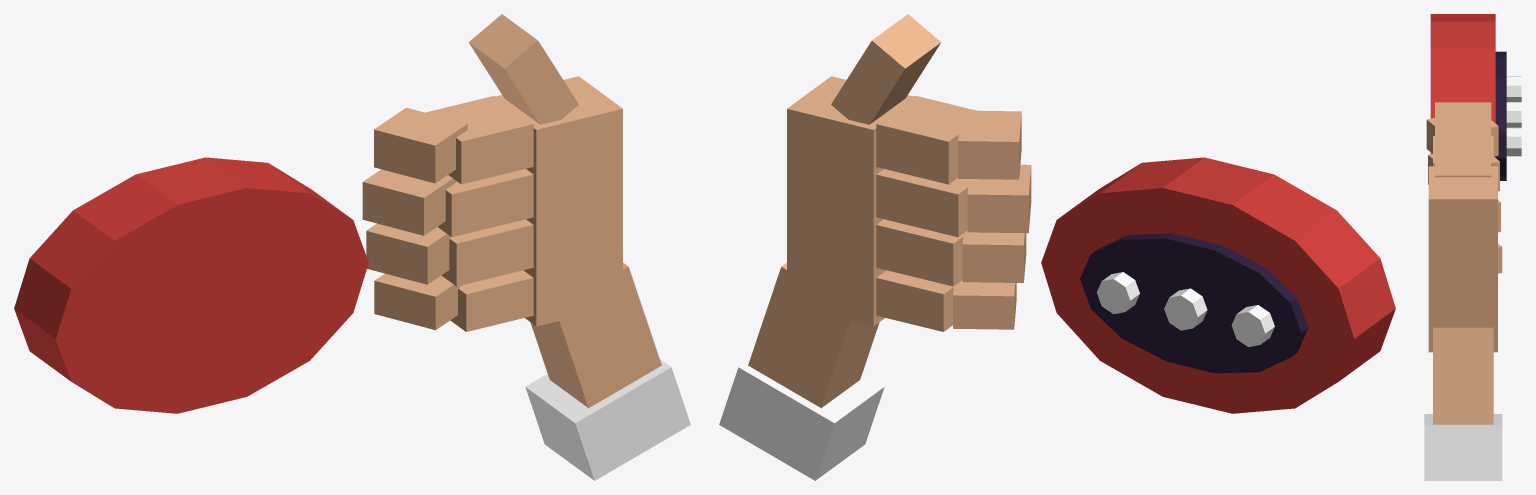
File: whisper.gltf
The picture shows the model from 3 angles, left to right: view 1: azimuth 30°, elevation 25°; view 2: azimuth 150°, elevation 25°; view 3: azimuth 270°, elevation 25°; orthographic projection. The views are drawn at different scales.
Visible parts, largest first — view 1: mouth_lips, hand_palm, cuff_sleeve, hand_wrist, hand_thumb, hand_finger_1_base, hand_finger_1_tip, hand_finger_2_base, hand_finger_2_tip, hand_finger_3_base, hand_finger_3_tip, hand_finger_4_tip (+1 smaller); view 2: mouth_lips, hand_palm, mouth_opening, cuff_sleeve, hand_wrist, hand_thumb, hand_finger_1_base, hand_finger_2_base, hand_finger_3_base, hand_finger_1_tip, mouth, hand_finger_4_base (+3 smaller); view 3: hand_palm, mouth_lips, hand_wrist, cuff_sleeve, hand_thumb, mouth_opening, mouth, hand_finger_1_tip, hand_finger_2_tip, hand_finger_1_base, hand_finger_4_tip.
Boxes of the visible parts, bbox=[...] form: mouth_lips: bbox=[14, 157, 368, 413]; hand_palm: bbox=[496, 76, 622, 326]; cuff_sleeve: bbox=[525, 359, 690, 480]; hand_wrist: bbox=[530, 263, 661, 408]; hand_thumb: bbox=[468, 14, 578, 124]; hand_finger_1_base: bbox=[426, 95, 533, 184]; hand_finger_1_tip: bbox=[374, 107, 467, 183]; hand_finger_2_base: bbox=[437, 169, 533, 237]; hand_finger_2_tip: bbox=[362, 169, 456, 235]; hand_finger_3_base: bbox=[441, 219, 533, 286]; hand_finger_3_tip: bbox=[366, 223, 450, 284]; hand_finger_4_tip: bbox=[374, 273, 462, 330]; mouth_lips: bbox=[1041, 157, 1395, 413]; hand_palm: bbox=[787, 76, 913, 326]; mouth_opening: bbox=[1080, 233, 1308, 373]; cuff_sleeve: bbox=[719, 359, 884, 480]; hand_wrist: bbox=[748, 263, 879, 408]; hand_thumb: bbox=[831, 14, 941, 124]; hand_finger_1_base: bbox=[876, 95, 975, 184]; hand_finger_2_base: bbox=[876, 169, 968, 237]; hand_finger_3_base: bbox=[876, 219, 963, 286]; hand_finger_1_tip: bbox=[958, 110, 1021, 179]; mouth: bbox=[1096, 272, 1274, 346]; hand_finger_4_base: bbox=[876, 270, 953, 331]; hand_palm: bbox=[1428, 166, 1497, 352]; mouth_lips: bbox=[1430, 14, 1495, 157]; hand_wrist: bbox=[1433, 327, 1493, 424]; cuff_sleeve: bbox=[1424, 414, 1502, 480]; hand_thumb: bbox=[1435, 102, 1491, 177]; mouth_opening: bbox=[1495, 51, 1506, 180]; mouth: bbox=[1506, 76, 1521, 156]; hand_finger_1_tip: bbox=[1426, 117, 1498, 156]; hand_finger_2_tip: bbox=[1428, 154, 1499, 191]; hand_finger_1_base: bbox=[1433, 136, 1493, 166]; hand_finger_4_tip: bbox=[1498, 243, 1502, 273].
Bounding box in the file's own units: 0.262 × 0.1776 × 0.045.
5 materials, 5 textured.
